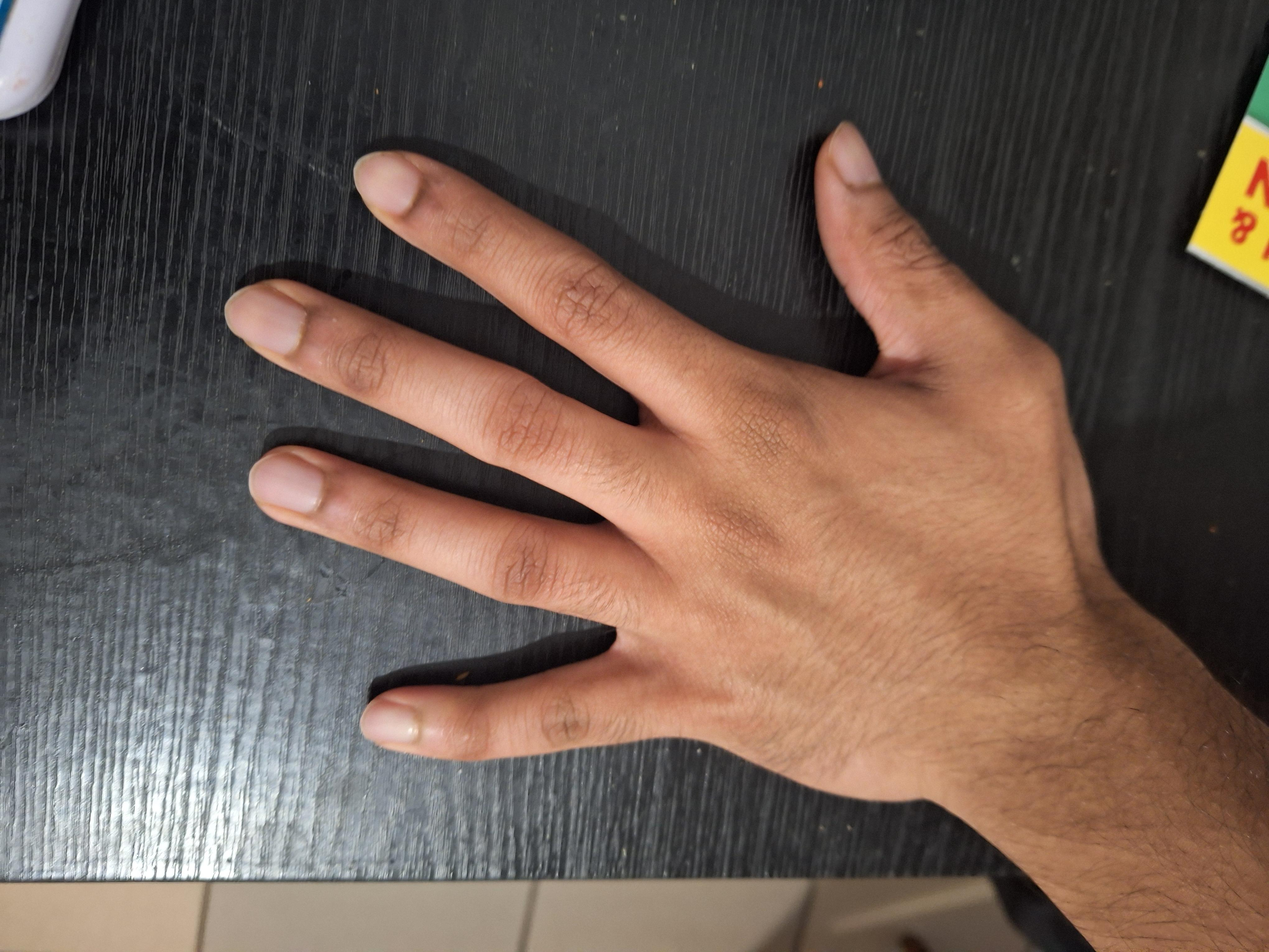Fingernail: (224, 284, 306, 357), (249, 452, 324, 514), (354, 152, 423, 214), (828, 121, 883, 185), (361, 698, 418, 745)
